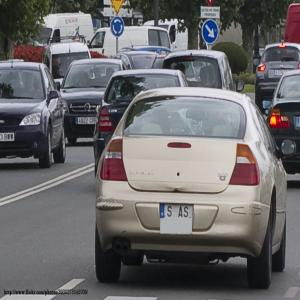Vehicle-registration-plate: (149, 201, 209, 245), (76, 118, 99, 126), (1, 135, 15, 143)
